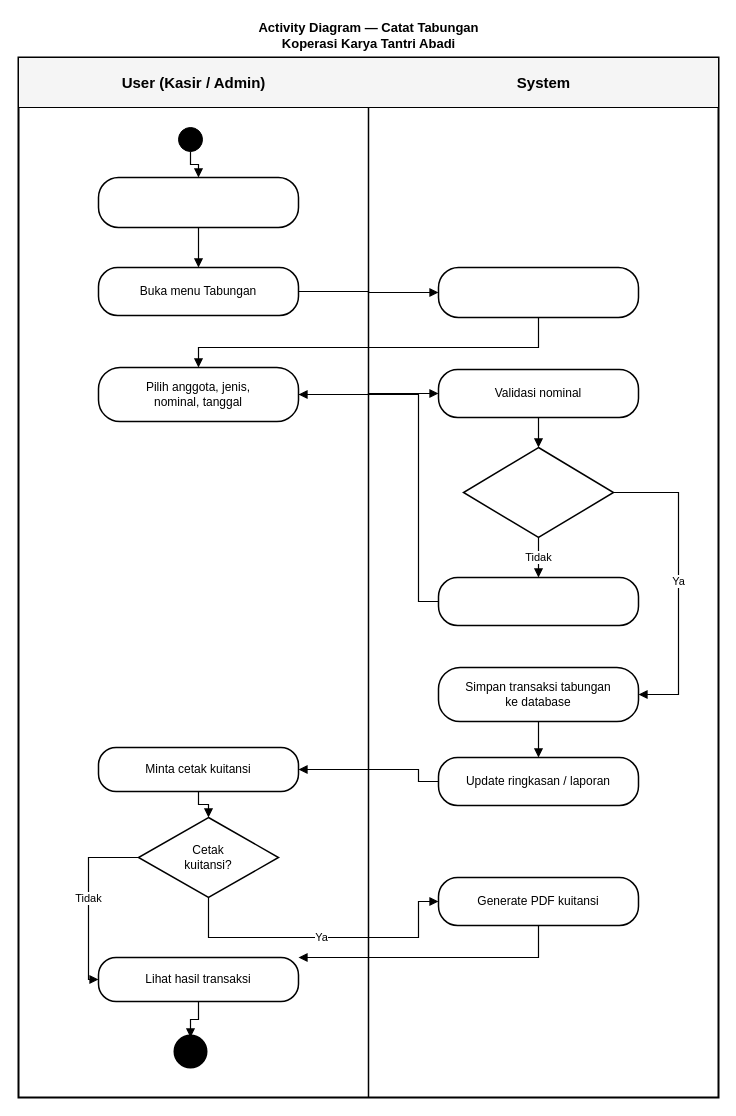
Image size: 736x1116. Some labels were removed from this diagram. Here are the shapes that lost their labels. From the top down, the box of each, then its label:
(97, 176, 299, 228): Login ke panel (Kasir / Admin)
(437, 266, 639, 318): Tampilkan form transaksi tabungan
(462, 446, 614, 538): Nominal valid > 0?
(437, 576, 639, 626): Tampilkan pesan validasi
